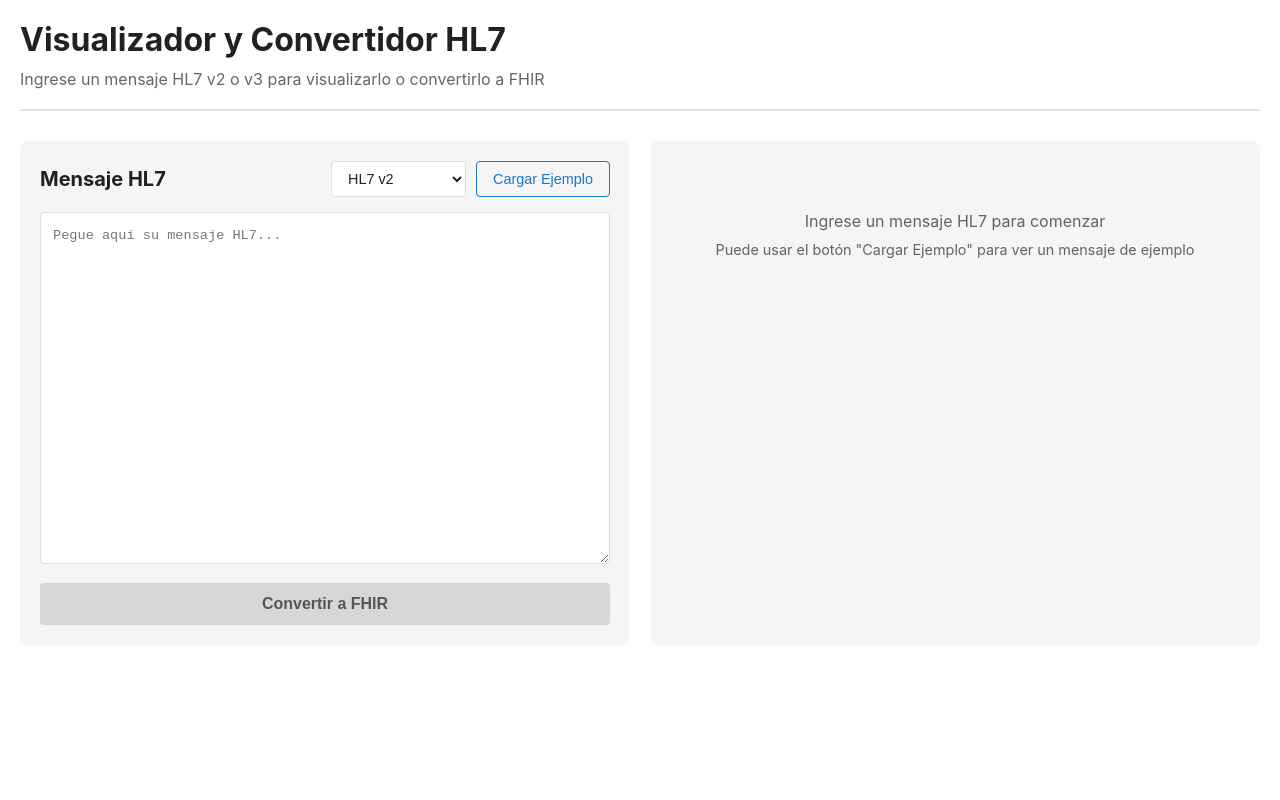
Test case: Hl7Page › shows FHIR result on successful conversion
The image size is (1280, 800).
Type "MSH|^~\\&|A|B" into the text box with placeholder "Pegue aquí su mensaje HL7..." at point(325, 388), box [40,212,610,564]
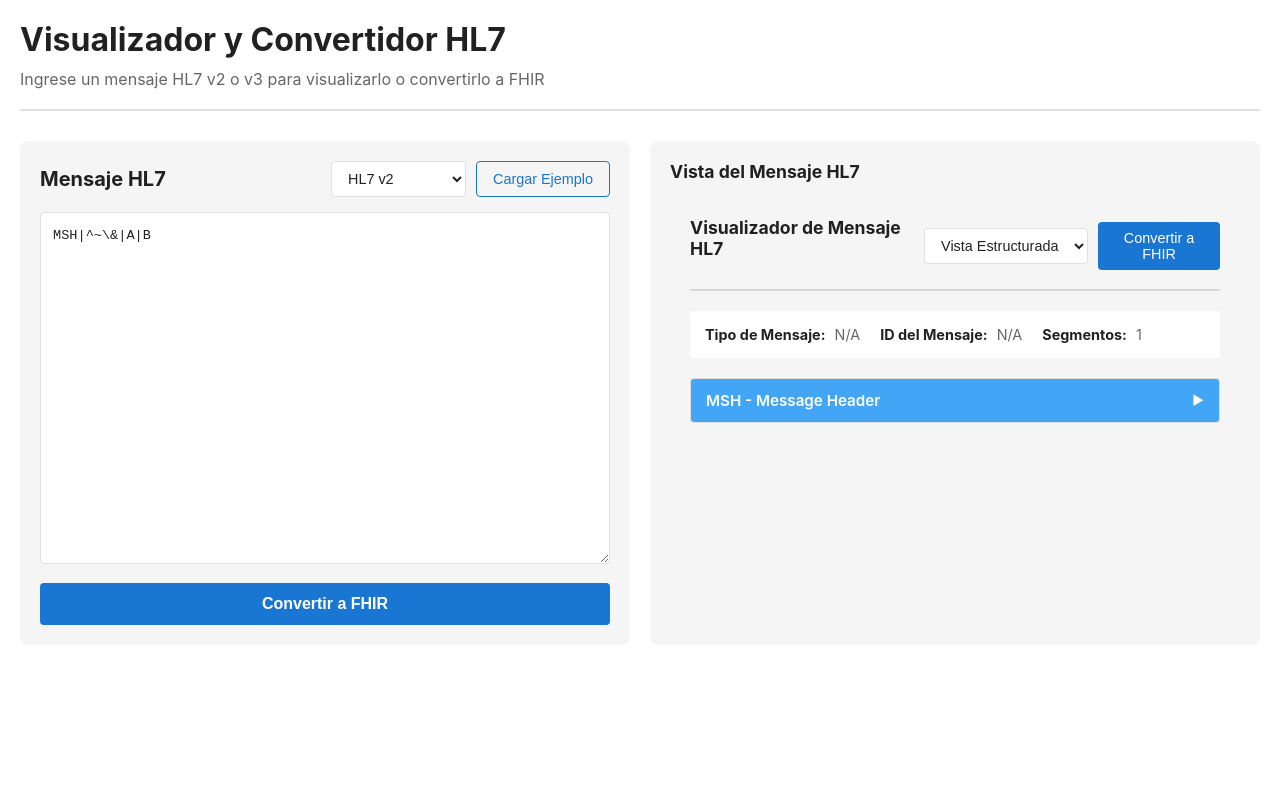
Click the button with class "hl7-convert-button" at point(325, 604), box [40,583,610,625]
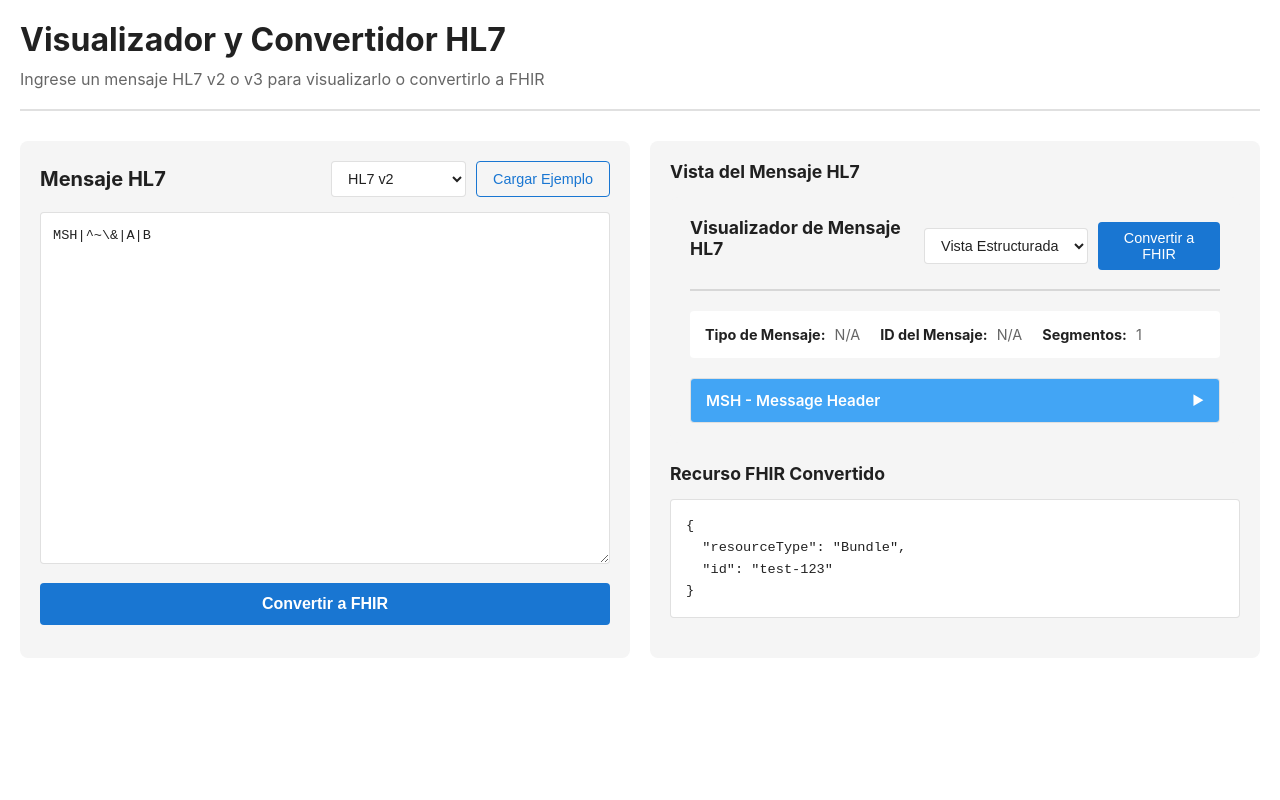
Check: the heading "Recurso FHIR Convertido" is shown, box [670,463,885,484]
Check: the text "{ \"resourceType\": \"Bundle\", \"id\": \"test-123\" }" is shown, box [686,518,906,598]
